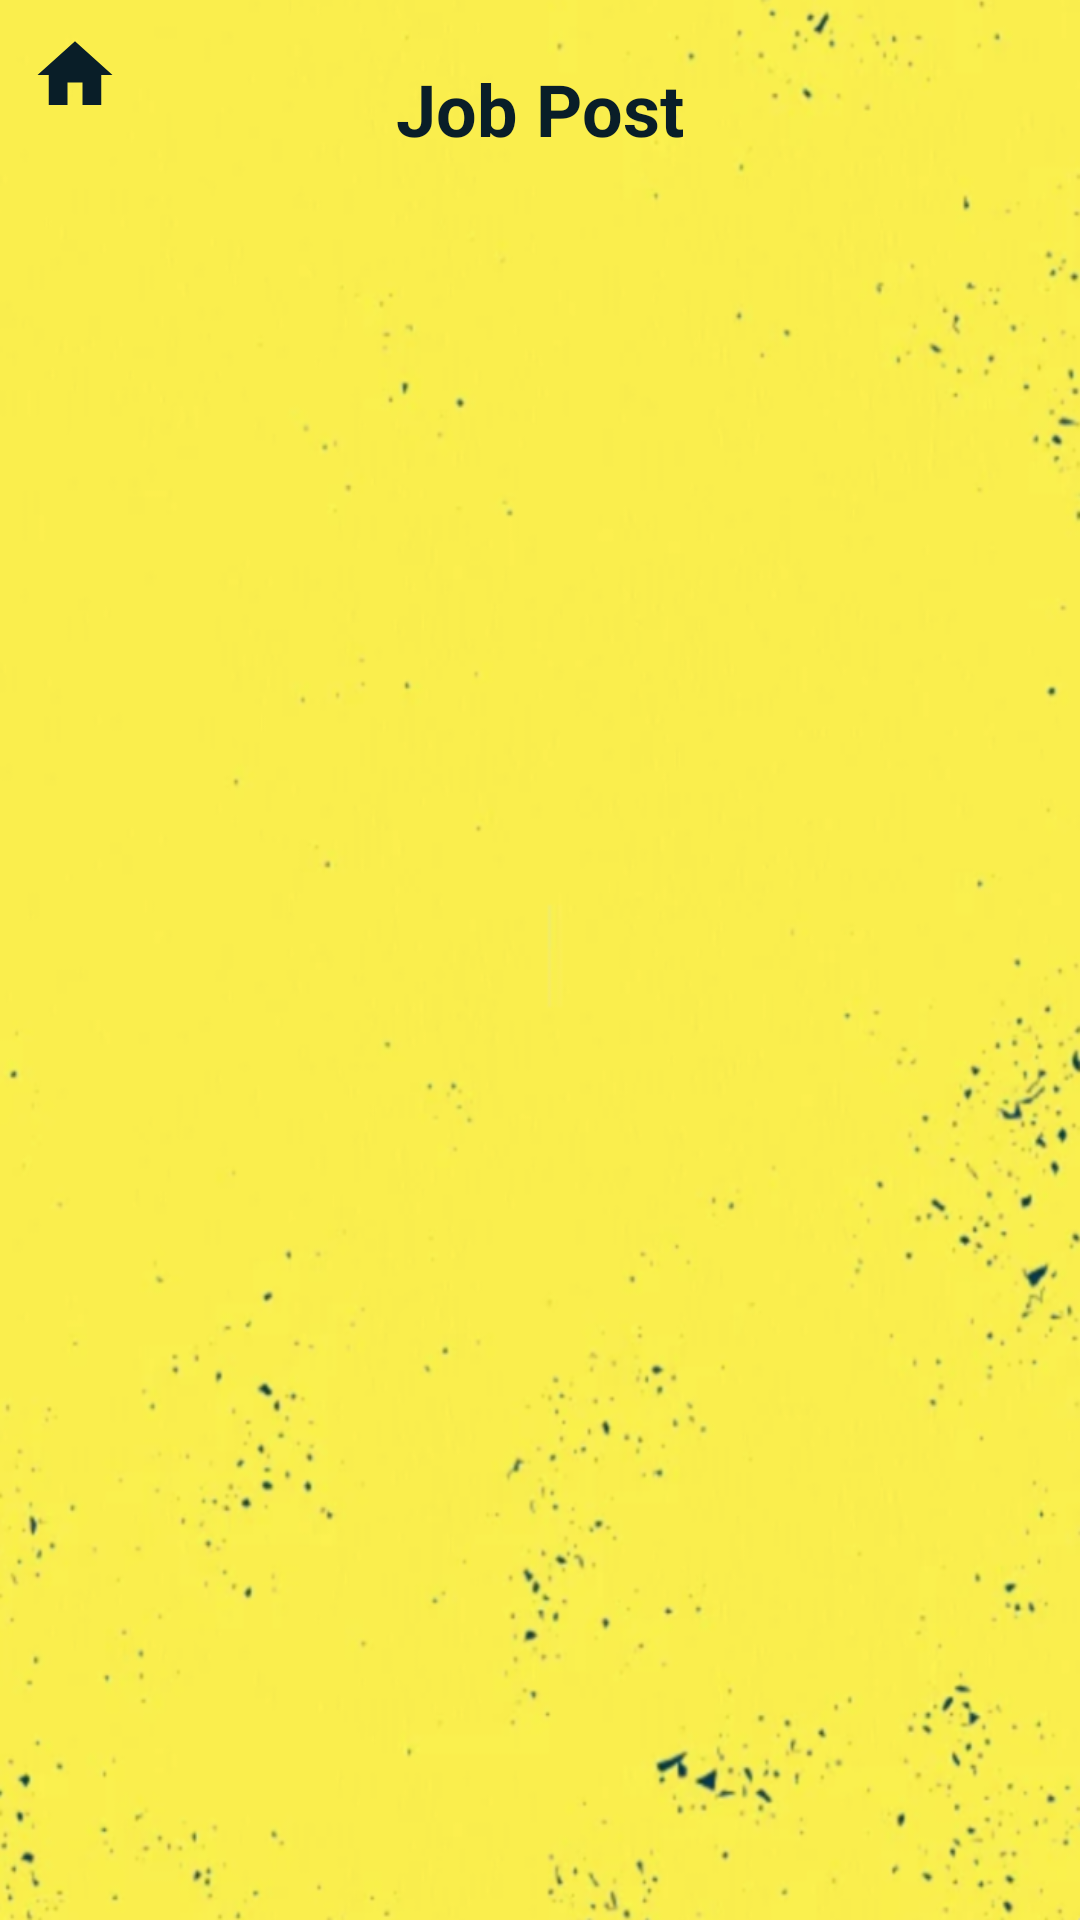

Named icons in this screenshot (1080 × 1920) and their bounding boxes, (x1, y1, x2, y2):
home: (38, 41, 112, 105)
